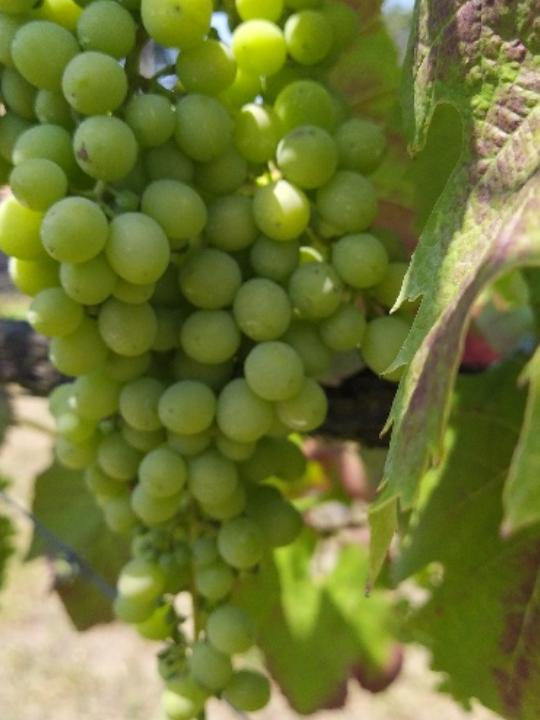grape: (0, 0, 422, 720)
